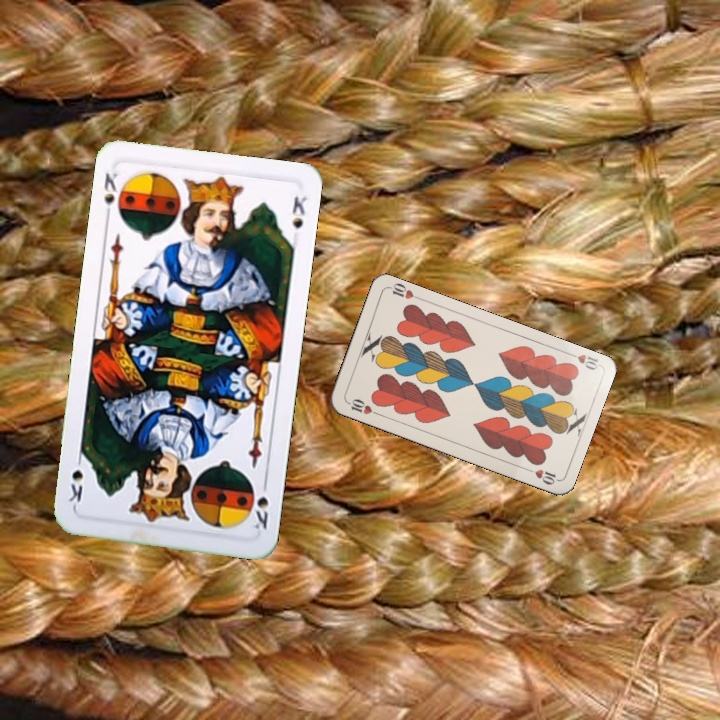H10: (563, 348, 601, 373), (343, 395, 382, 418)
SK: (100, 168, 127, 223), (245, 475, 271, 532)
